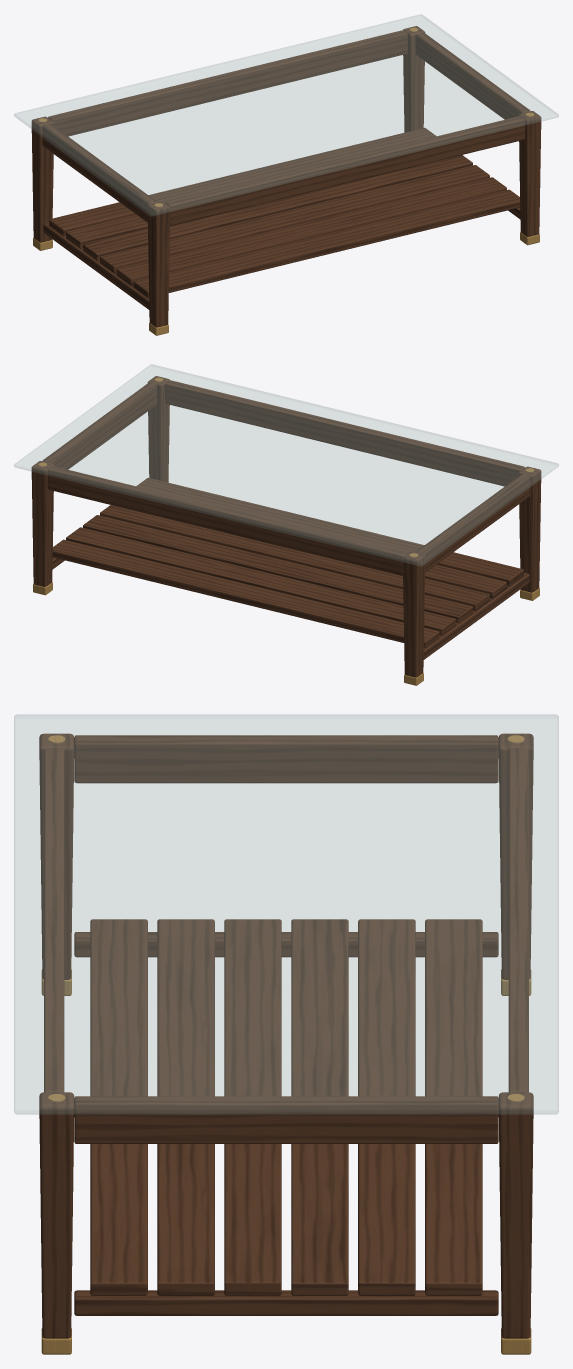
Rendered from coffee_table.glb.
3 views of the same model, one above another, from view 1: azimuth 30°, elevation 25°; view 2: azimuth 150°, elevation 25°; view 3: azimuth 270°, elevation 25° (orthographic). The views are drawn at different scales.
Parts seen in each view (by area): view 1: top_glass_clear_0, frame_wood_walnut_0, frame_wood_walnut_1, shelf_wood_walnut_7, shelf_wood_walnut_6, shelf_wood_walnut_5, shelf_wood_walnut_4, shelf_wood_walnut_2, frame_wood_walnut_3, frame_wood_walnut_2, leg_fl_wood_walnut_0, leg_fr_wood_walnut_0 (+4 smaller); view 2: top_glass_clear_0, frame_wood_walnut_1, frame_wood_walnut_0, shelf_wood_walnut_2, shelf_wood_walnut_3, shelf_wood_walnut_4, shelf_wood_walnut_5, shelf_wood_walnut_7, frame_wood_walnut_3, frame_wood_walnut_2, leg_bl_wood_walnut_0, leg_br_wood_walnut_0 (+4 smaller); view 3: top_glass_clear_0, frame_wood_walnut_3, frame_wood_walnut_2, shelf_wood_walnut_2, shelf_wood_walnut_3, shelf_wood_walnut_4, shelf_wood_walnut_5, shelf_wood_walnut_6, shelf_wood_walnut_7, shelf_wood_walnut_1, leg_fr_wood_walnut_0, leg_br_wood_walnut_0 (+5 smaller).
Part boxes in pixels (x1=…): top_glass_clear_0: x1=14, y1=14, x2=558, y2=216; frame_wood_walnut_0: x1=165, y1=116, x2=525, y2=225; frame_wood_walnut_1: x1=48, y1=30, x2=407, y2=136; shelf_wood_walnut_7: x1=133, y1=189, x2=520, y2=297; shelf_wood_walnut_6: x1=116, y1=177, x2=506, y2=285; shelf_wood_walnut_5: x1=100, y1=165, x2=489, y2=273; shelf_wood_walnut_4: x1=83, y1=155, x2=472, y2=260; shelf_wood_walnut_2: x1=49, y1=127, x2=436, y2=236; frame_wood_walnut_3: x1=42, y1=123, x2=156, y2=222; frame_wood_walnut_2: x1=415, y1=32, x2=530, y2=119; leg_fl_wood_walnut_0: x1=147, y1=201, x2=170, y2=327; leg_fr_wood_walnut_0: x1=518, y1=111, x2=541, y2=236; top_glass_clear_0: x1=14, y1=364, x2=558, y2=566; frame_wood_walnut_1: x1=47, y1=466, x2=407, y2=575; frame_wood_walnut_0: x1=165, y1=380, x2=524, y2=486; shelf_wood_walnut_2: x1=52, y1=539, x2=439, y2=647; shelf_wood_walnut_3: x1=66, y1=527, x2=456, y2=635; shelf_wood_walnut_4: x1=83, y1=515, x2=472, y2=623; shelf_wood_walnut_5: x1=100, y1=505, x2=489, y2=610; shelf_wood_walnut_7: x1=136, y1=477, x2=523, y2=586; frame_wood_walnut_3: x1=416, y1=473, x2=530, y2=572; frame_wood_walnut_2: x1=42, y1=382, x2=157, y2=469; leg_bl_wood_walnut_0: x1=402, y1=551, x2=425, y2=677; leg_br_wood_walnut_0: x1=31, y1=461, x2=54, y2=586; top_glass_clear_0: x1=14, y1=714, x2=558, y2=1114; frame_wood_walnut_3: x1=74, y1=735, x2=498, y2=783; frame_wood_walnut_2: x1=74, y1=1096, x2=498, y2=1143; shelf_wood_walnut_2: x1=425, y1=919, x2=482, y2=1295; shelf_wood_walnut_3: x1=358, y1=919, x2=415, y2=1295; shelf_wood_walnut_4: x1=291, y1=919, x2=348, y2=1295; shelf_wood_walnut_5: x1=224, y1=919, x2=281, y2=1295; shelf_wood_walnut_6: x1=157, y1=919, x2=214, y2=1295; shelf_wood_walnut_7: x1=90, y1=919, x2=147, y2=1295; shelf_wood_walnut_1: x1=74, y1=1290, x2=498, y2=1315; leg_fr_wood_walnut_0: x1=39, y1=1092, x2=74, y2=1338; leg_br_wood_walnut_0: x1=498, y1=1092, x2=533, y2=1338.
Size of what is drawn, in the model's own units: 1.2 by 0.367 by 0.7.
5 materials, 3 textured.
